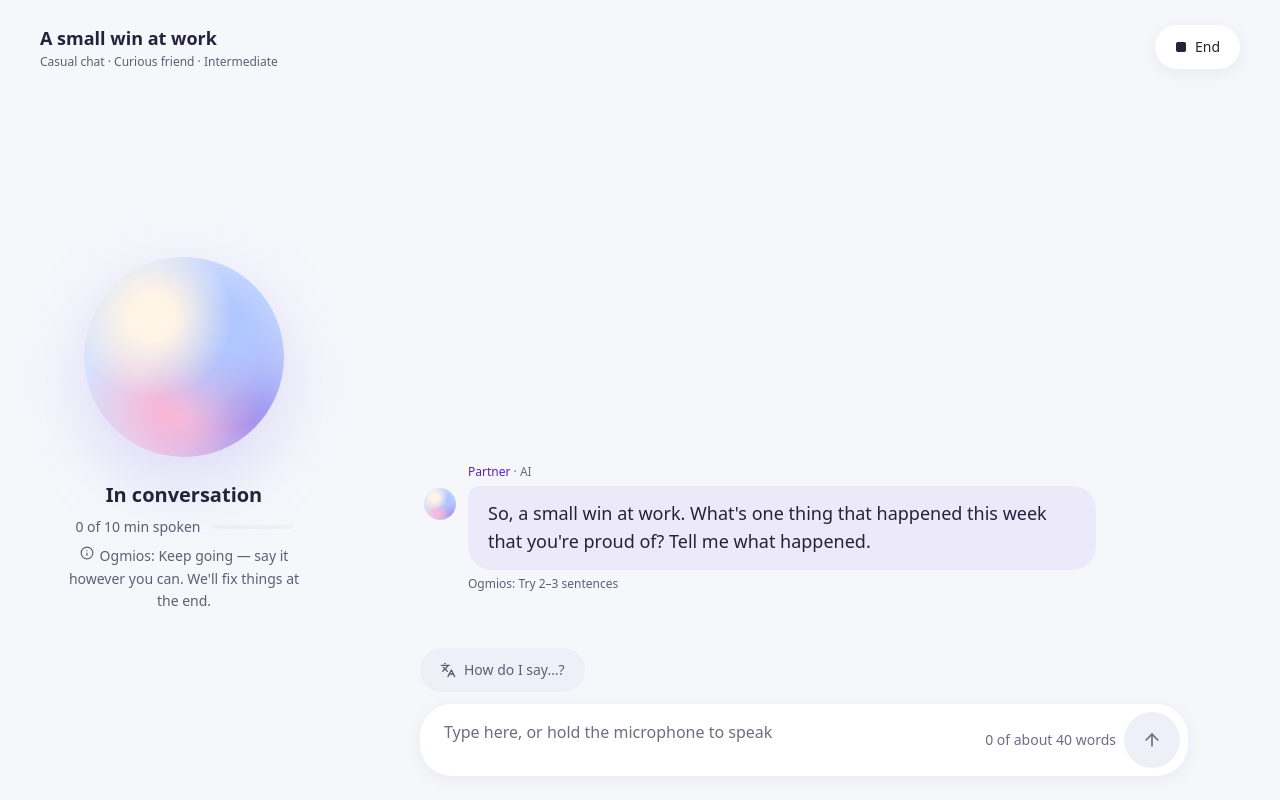
Test: Conversation › streams the opening, sends a turn and streams the reply
Expected: the text "What's one thing that happened this week" is shown, left=488, top=501, right=1047, bottom=553
Expected: the text "Ogmios: Try 2–3 sentences" is shown, left=468, top=575, right=618, bottom=592
Type "I finished a big report" into the text box named "Your answer".
click(711, 740); type("I finished a big report")  # box left=444, top=712, right=977, bottom=768
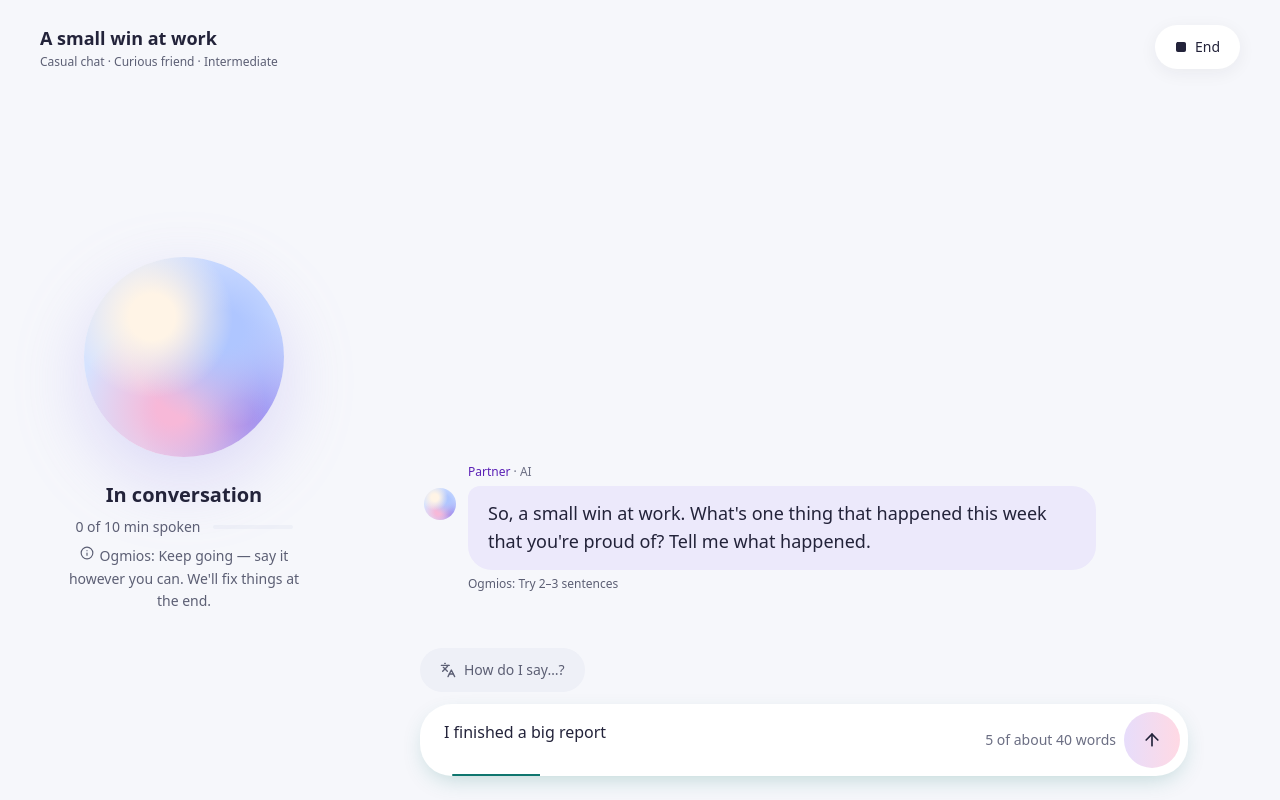
Expected: the element named "Words this turn" has attribute aria-valuenow="5", left=452, top=774, right=540, bottom=776
Press Enter
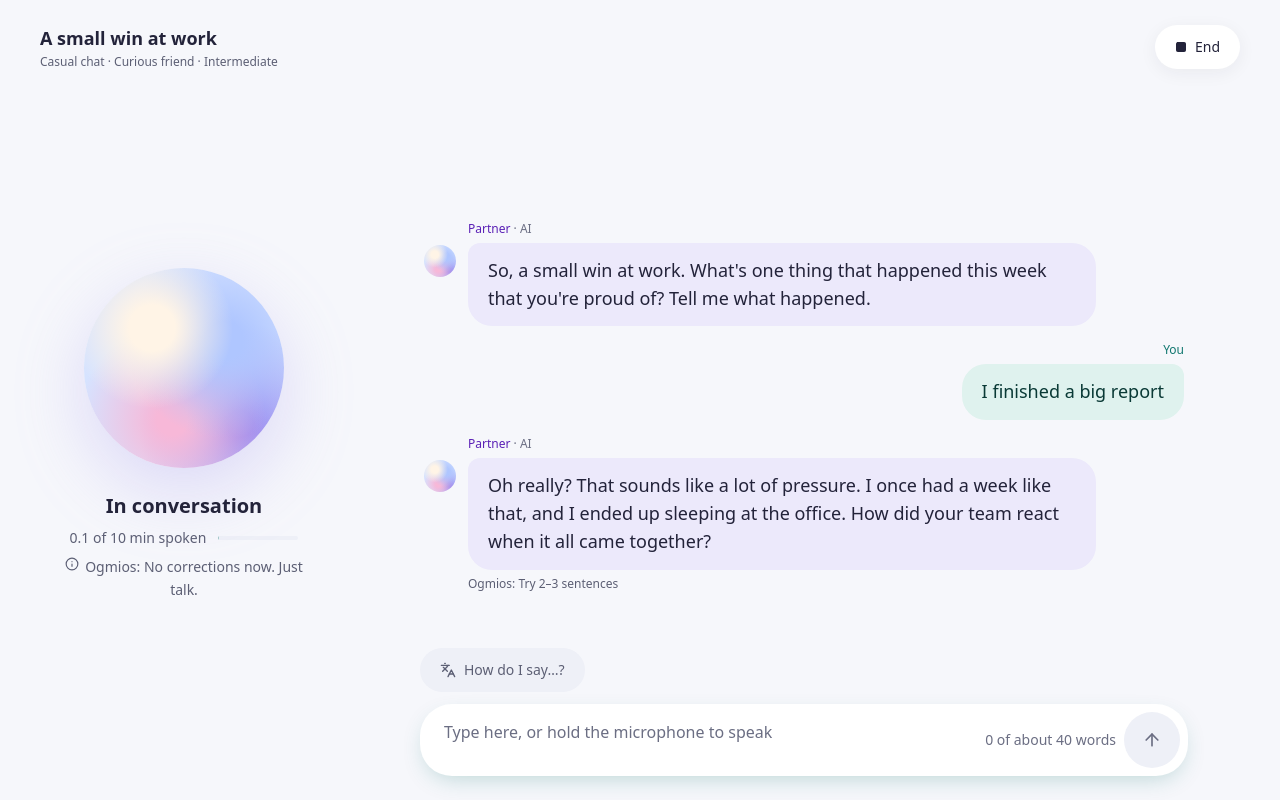
Expected: the text "I finished a big report" is shown, left=962, top=364, right=1184, bottom=420
Expected: the text "sleeping at the office" is shown, left=488, top=473, right=1059, bottom=553
Expected: the text box named "Your answer" is empty, left=444, top=712, right=977, bottom=768
